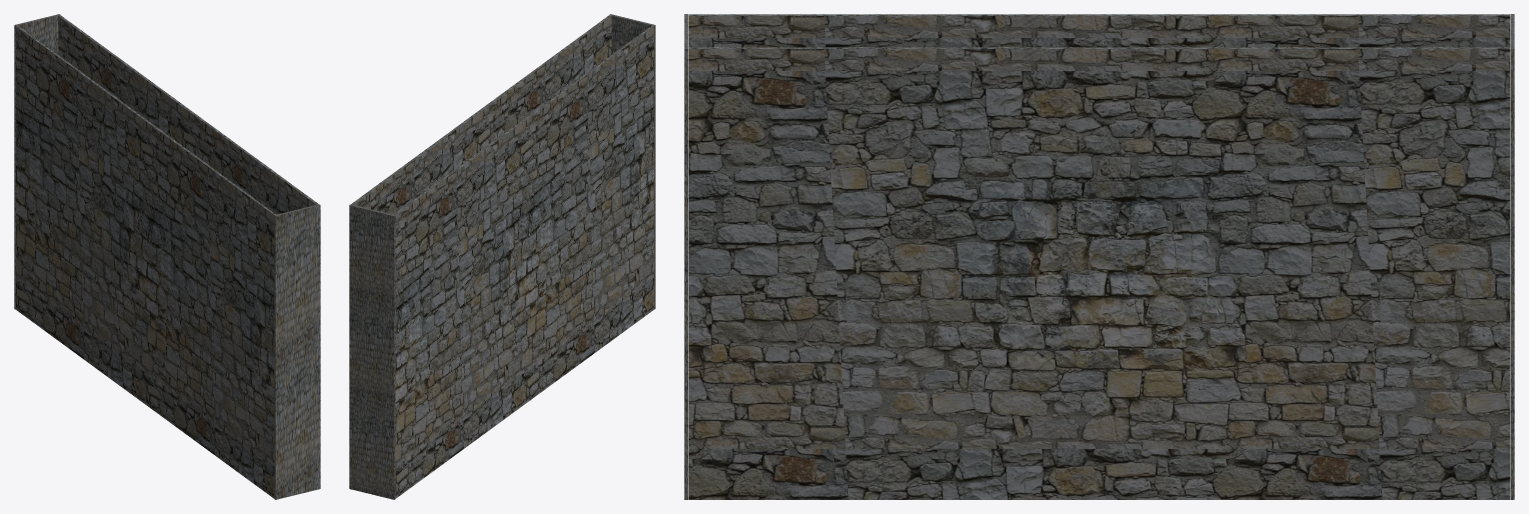
The model's file is 10x1construction.glb.
The picture shows the model from 3 angles, left to right: view 1: azimuth 30°, elevation 25°; view 2: azimuth 150°, elevation 25°; view 3: azimuth 270°, elevation 25°; orthographic projection. The views are drawn at different scales.
Parts seen in each view (by area): view 1: Cube.007, Cube.002, Cube.004, Cube.003; view 2: Cube.007, Cube.003, Cube.004, Cube.002; view 3: Cube.004, Cube.007, Cube.002, Cube.003.
Boxes of the visible parts, x1=… form: Cube.007: x1=16, y1=25, x2=275, y2=498; Cube.002: x1=274, y1=204, x2=320, y2=499; Cube.004: x1=58, y1=15, x2=318, y2=214; Cube.003: x1=14, y1=14, x2=60, y2=309; Cube.007: x1=394, y1=25, x2=653, y2=498; Cube.003: x1=349, y1=204, x2=395, y2=499; Cube.004: x1=351, y1=15, x2=611, y2=214; Cube.002: x1=609, y1=14, x2=655, y2=309; Cube.004: x1=688, y1=47, x2=1510, y2=499; Cube.007: x1=688, y1=14, x2=1510, y2=47; Cube.002: x1=684, y1=14, x2=688, y2=499; Cube.003: x1=1510, y1=14, x2=1514, y2=499.
Size of the model in its own units: 1 by 6 by 10.01.
Materials: 4 (4 with a texture image).
